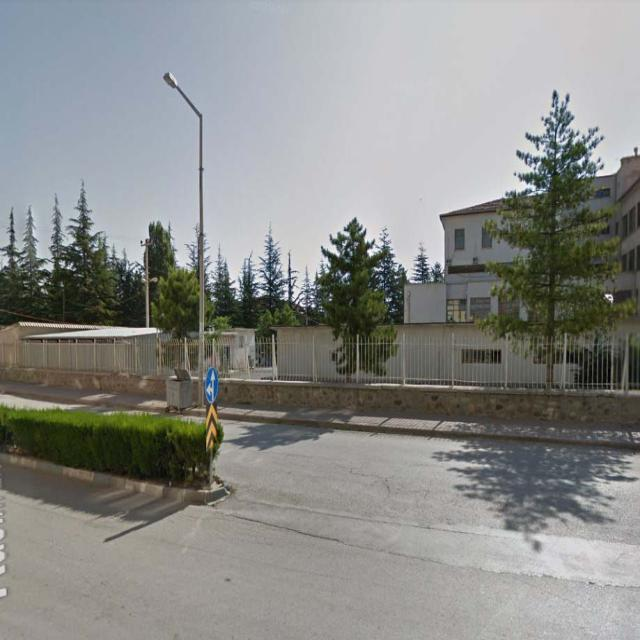ilerisol: (204, 364, 218, 405)
